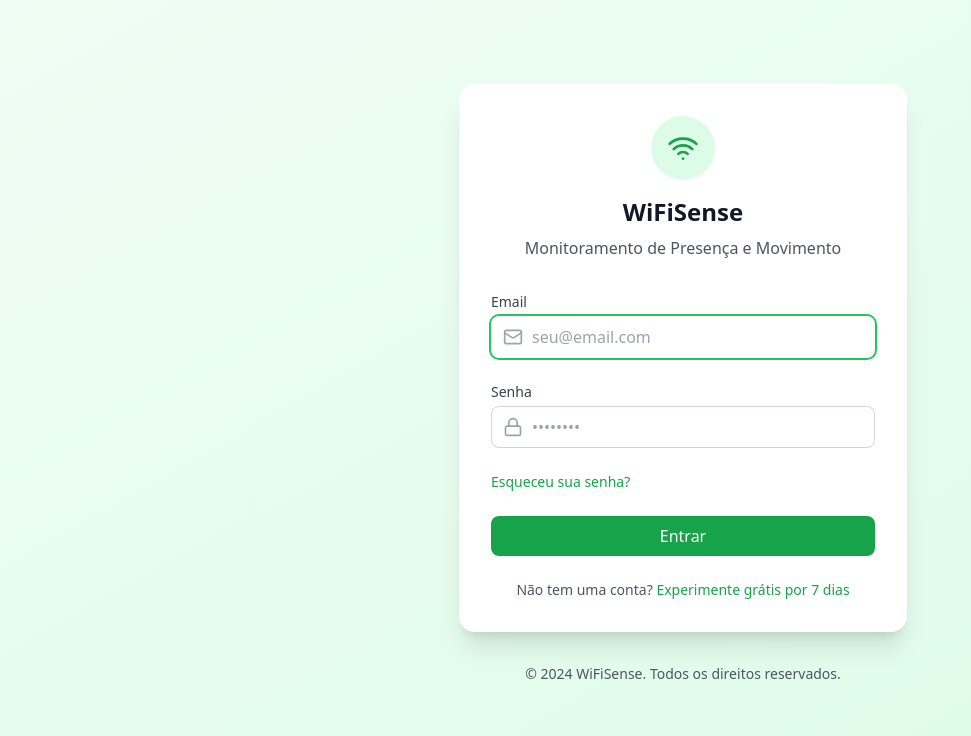
Test: LoginPage › deve exibir erro de conta bloqueada
Type "locked@test.com" into the field labelled "Email" at {"x": 683, "y": 337}, box [491, 316, 875, 358]
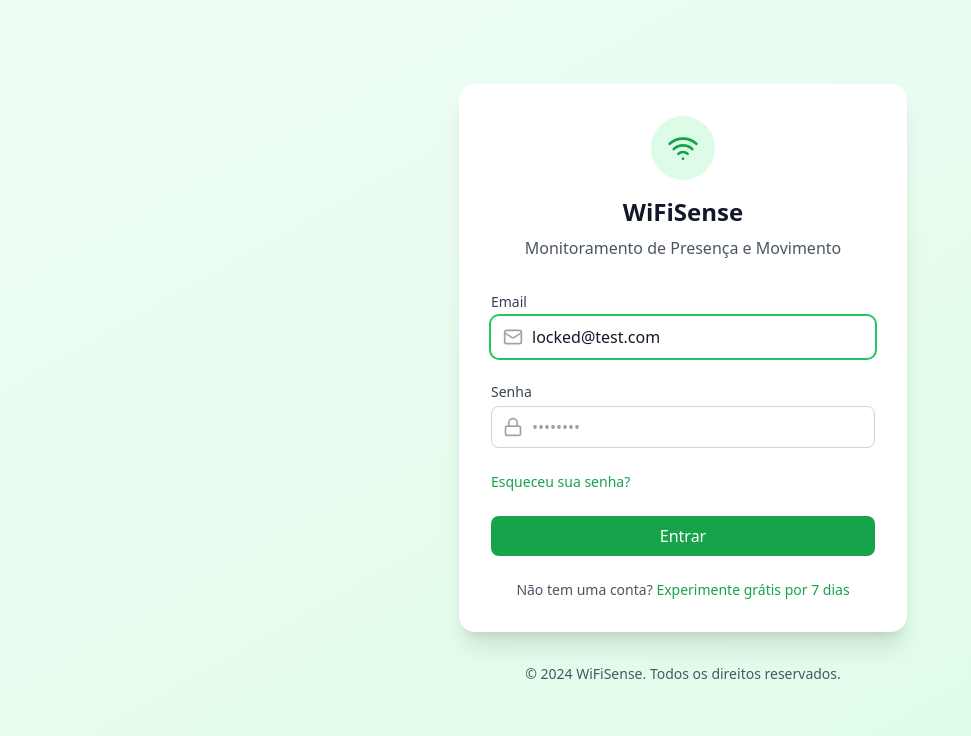
Type "password123" into the password field labelled "Senha" at {"x": 683, "y": 427}, box [491, 406, 875, 448]
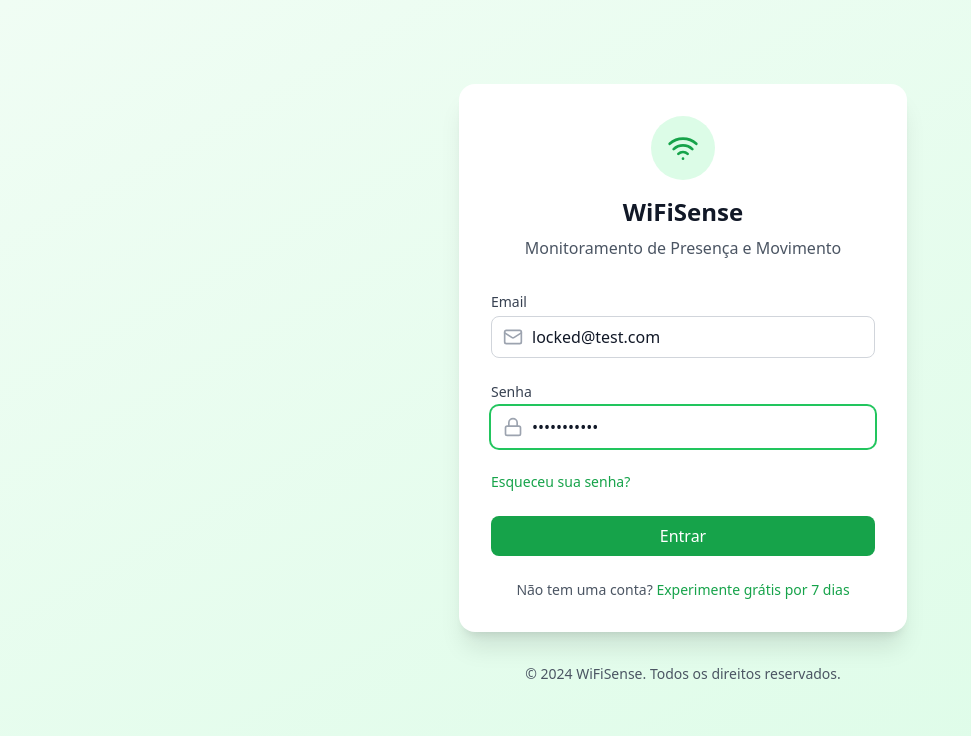
Click the button "Entrar" at {"x": 683, "y": 536}, box [491, 516, 875, 556]
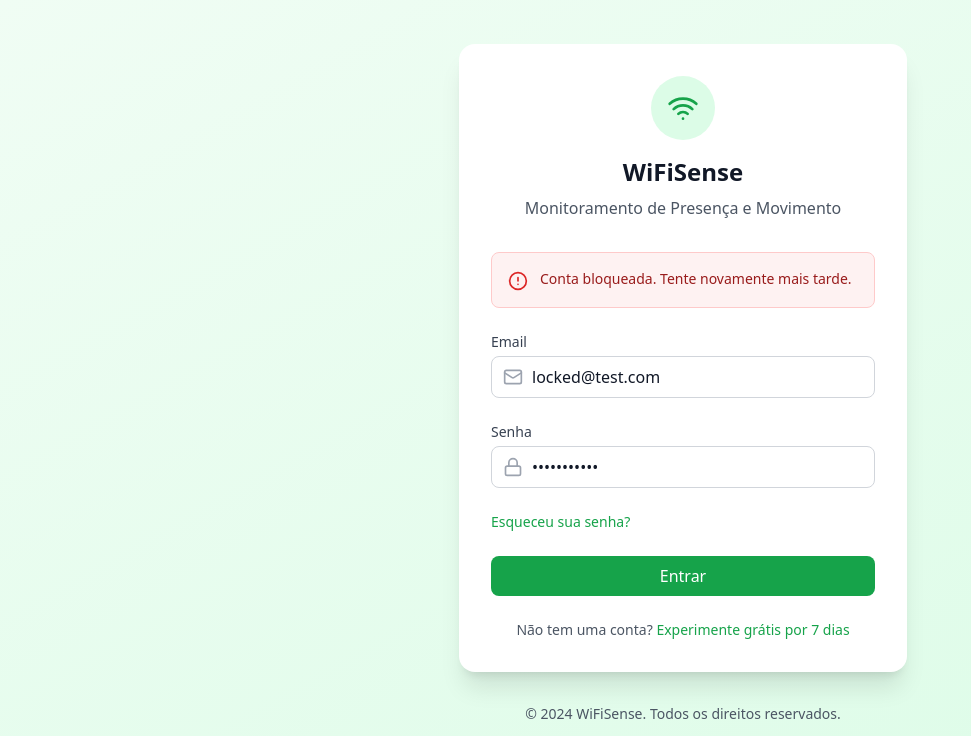
expect the text "Conta bloqueada. Tente novamente mais tarde." is shown: met, box [540, 269, 852, 289]
